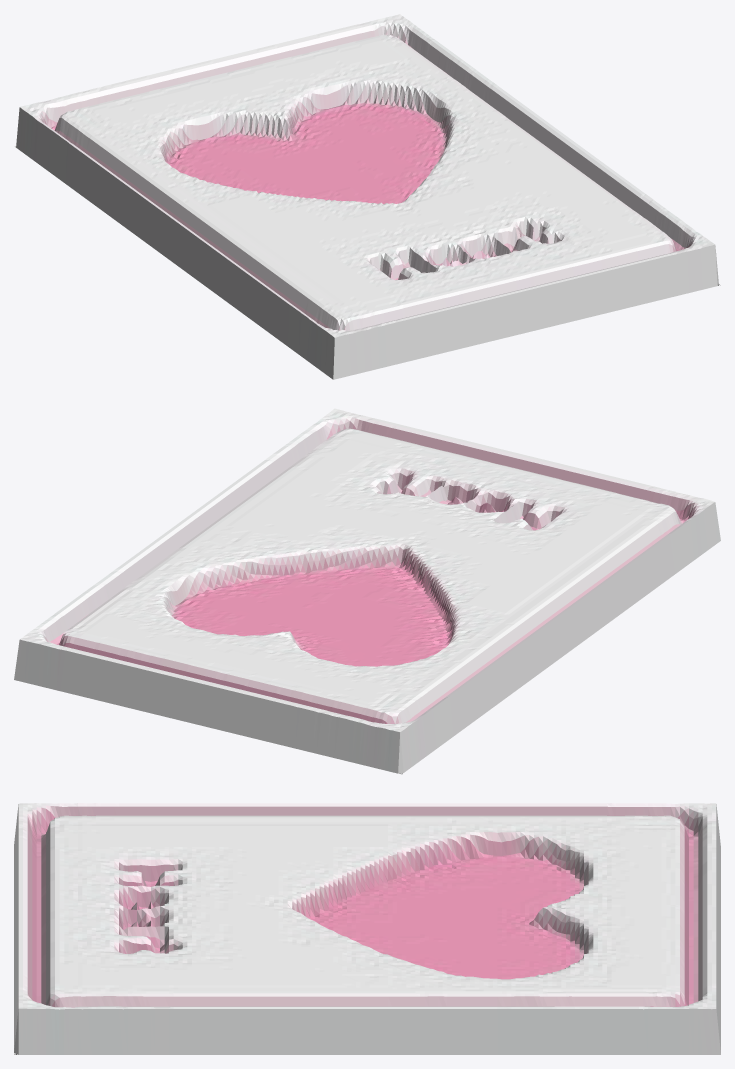
3 views of the same model, one above another, from view 1: azimuth 30°, elevation 25°; view 2: azimuth 150°, elevation 25°; view 3: azimuth 270°, elevation 25° (orthographic). The views are drawn at different scales.
Visible parts, largest first — view 1: imagetostl_mesh0; view 2: imagetostl_mesh0; view 3: imagetostl_mesh0.
Boxes of the visible parts, x1,y1,x2,y2 form: imagetostl_mesh0: (14,14,720,379); imagetostl_mesh0: (14,408,720,774); imagetostl_mesh0: (14,803,720,1054).
Size of the model in its own units: 2564 by 254 by 3657.
